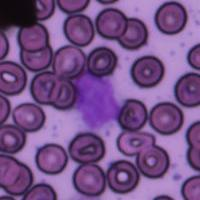M: (72, 69, 121, 130)
